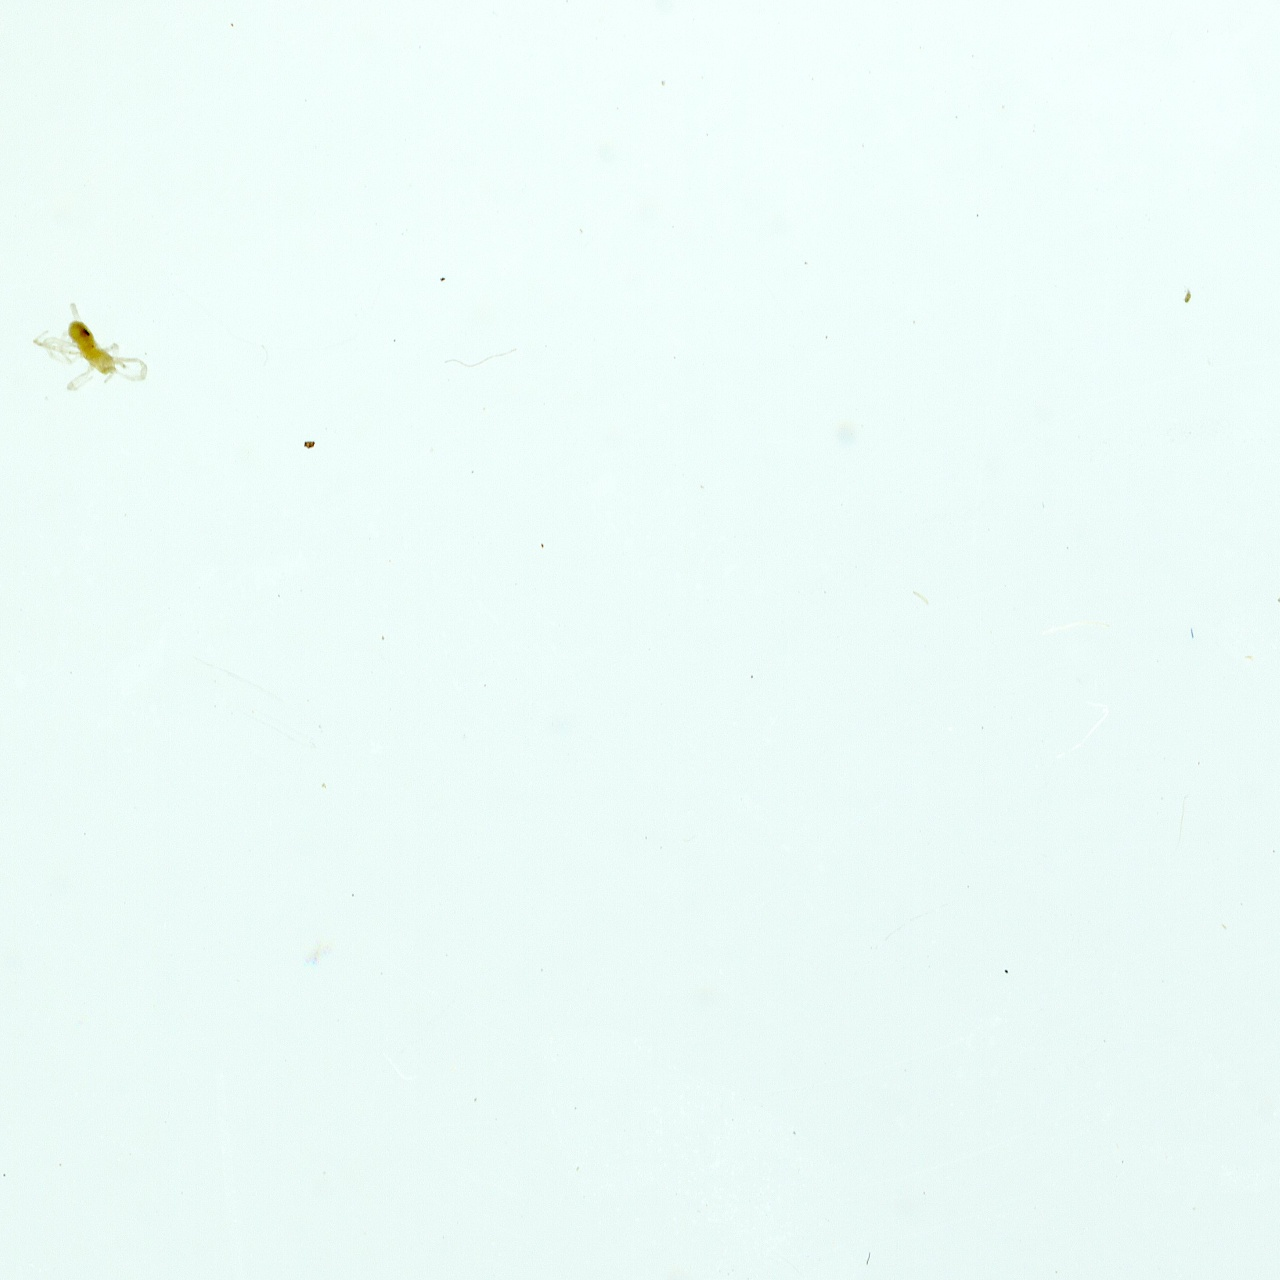arthropod: (26, 285, 162, 402)
